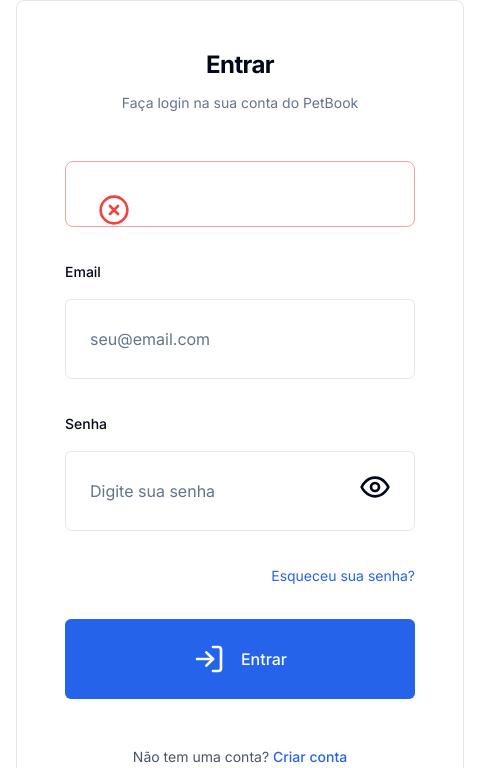
Test: Authentication Flow Integration › Form Validation Integration › handles network errors consistently across all forms
Fill and submit form
Type "test@example.com" into the field labelled "Email".
click(240, 339); type("test@example.com")  # box [65,299,415,379]
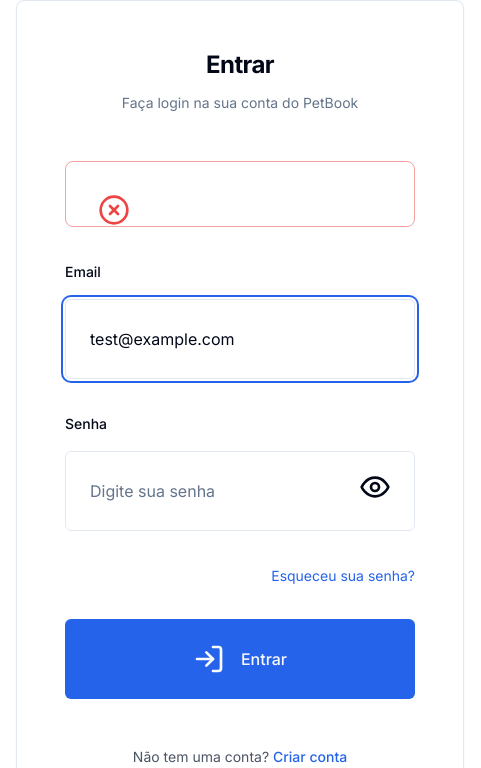
Type "password123" into the password field with placeholder "Digite sua senha".
click(240, 491); type("password123")  # box [65,451,415,531]
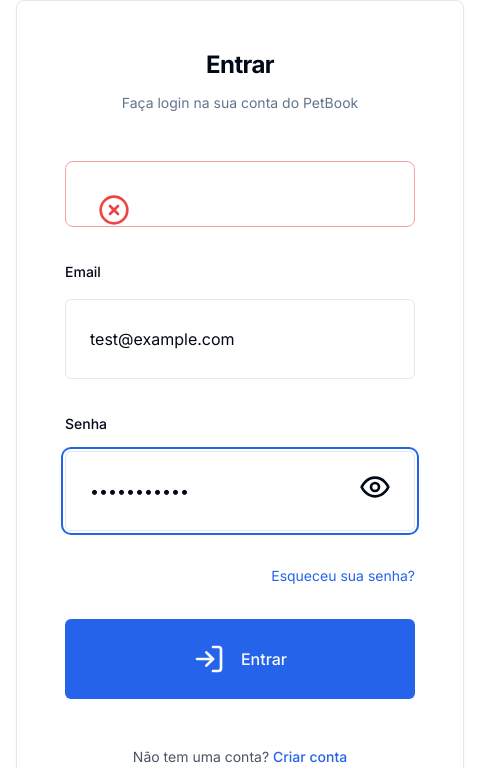
Click the button "Entrar".
click(240, 659)  # box [65,619,415,699]
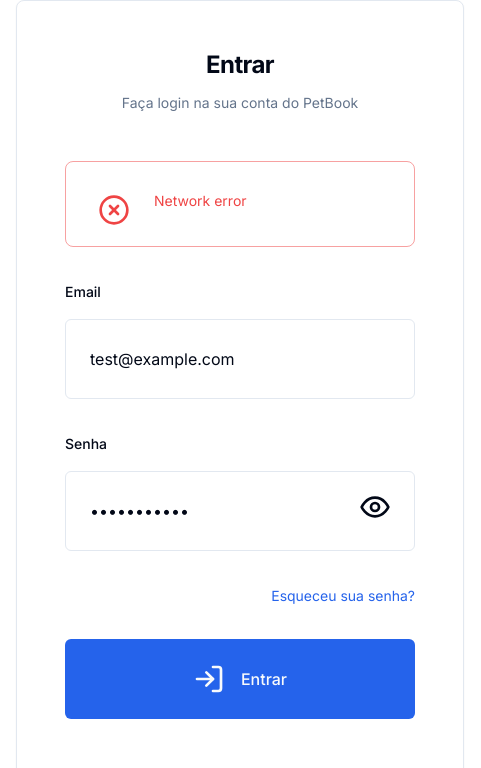
Expected: the text "Network error" is shown, [154,192,247,209]
